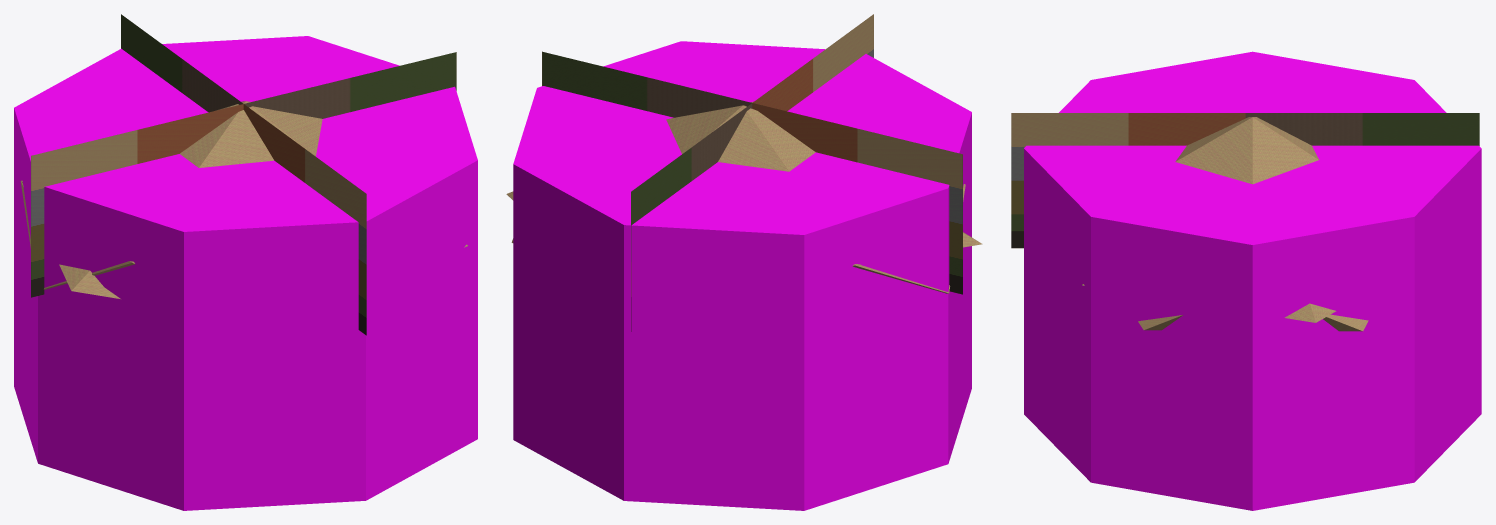
Rendered from rock_med_tan_a.dae.
3 renders of one model, left to right at view 1: azimuth 30°, elevation 25°; view 2: azimuth 150°, elevation 25°; view 3: azimuth 270°, elevation 25°, orthographic. The views are drawn at different scales.
Parts seen in each view (by area): view 1: Colmesh_rock-1, rock_med_tan_a_a50, rock_med_tan_a_a800, rock_med_tan_a_a200; view 2: Colmesh_rock-1, rock_med_tan_a_a50, rock_med_tan_a_a800; view 3: Colmesh_rock-1, rock_med_tan_a_a50, rock_med_tan_a_a800, rock_med_tan_a_a200.
Part boxes in pixels (left/top/right/bottom): Colmesh_rock-1: left=14, top=36, right=477, bottom=510; rock_med_tan_a_a50: left=31, top=14, right=456, bottom=335; rock_med_tan_a_a800: left=20, top=101, right=322, bottom=289; rock_med_tan_a_a200: left=21, top=182, right=467, bottom=298; Colmesh_rock-1: left=513, top=41, right=971, bottom=510; rock_med_tan_a_a50: left=542, top=14, right=962, bottom=331; rock_med_tan_a_a800: left=511, top=101, right=965, bottom=293; Colmesh_rock-1: left=1024, top=51, right=1481, bottom=510; rock_med_tan_a_a50: left=1011, top=113, right=1479, bottom=248; rock_med_tan_a_a800: left=1138, top=117, right=1368, bottom=331; rock_med_tan_a_a200: left=1082, top=284, right=1336, bottom=322.
Size of the model in its own units: 1.29 by 1.29 by 0.9067.
Materials: 2 (1 with a texture image).
